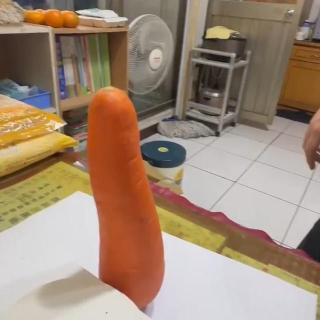carrot: (86, 86, 166, 310)
